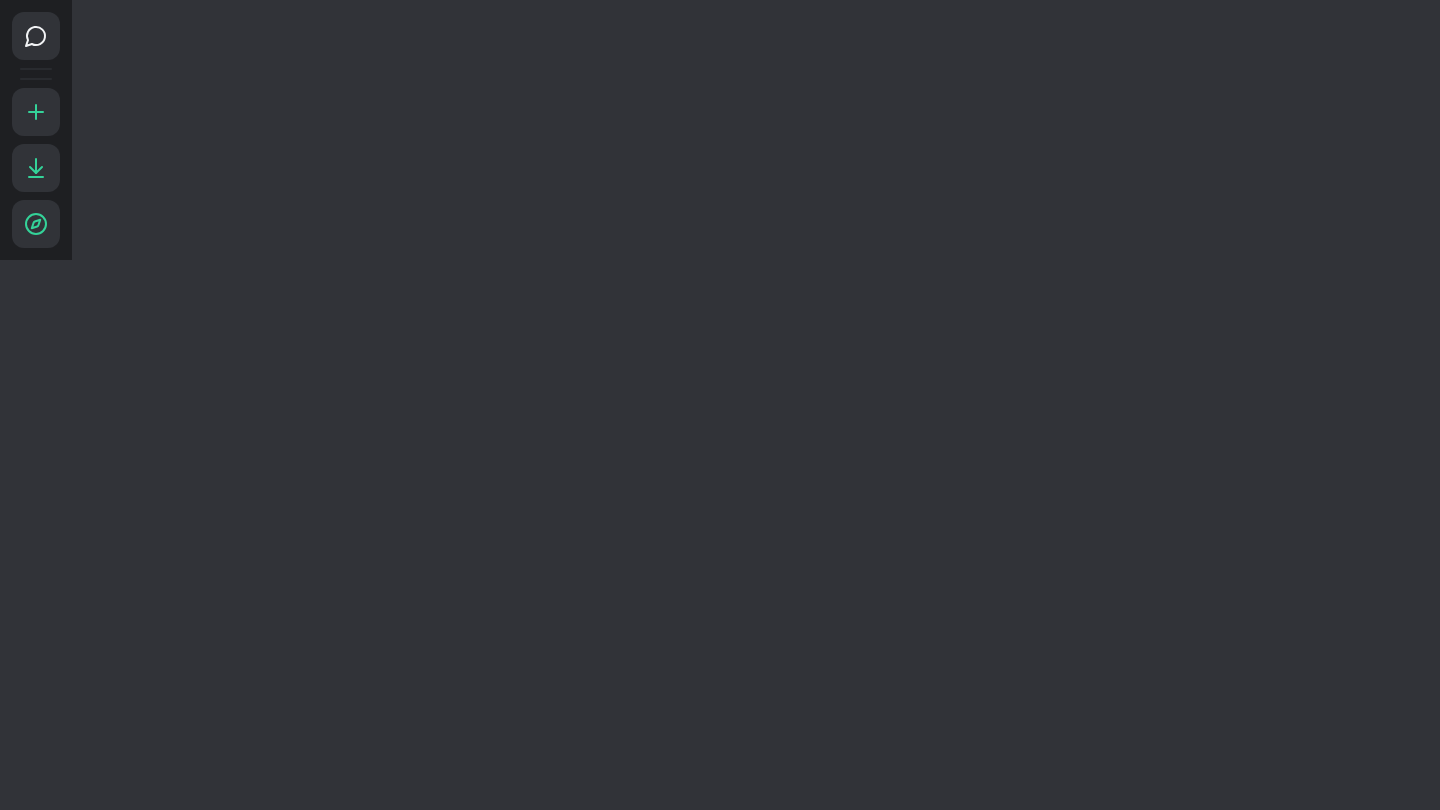
it: ServerSidebar › opens join server modal on Join click
Click the button titled "Join a Server": click(36, 168) [12,144,60,192]
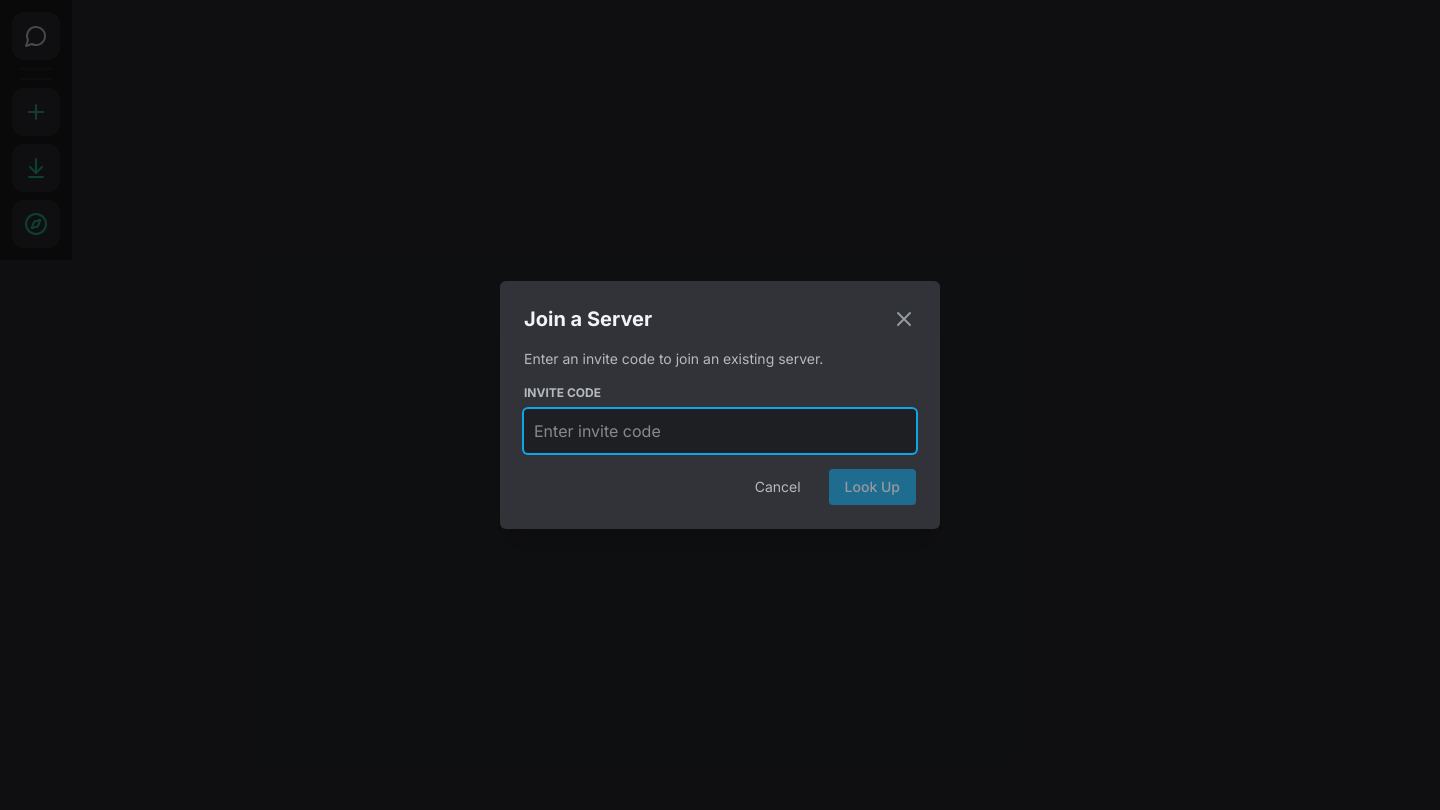
Check: the heading "Join a Server" is shown, box [524,305,652,333]
